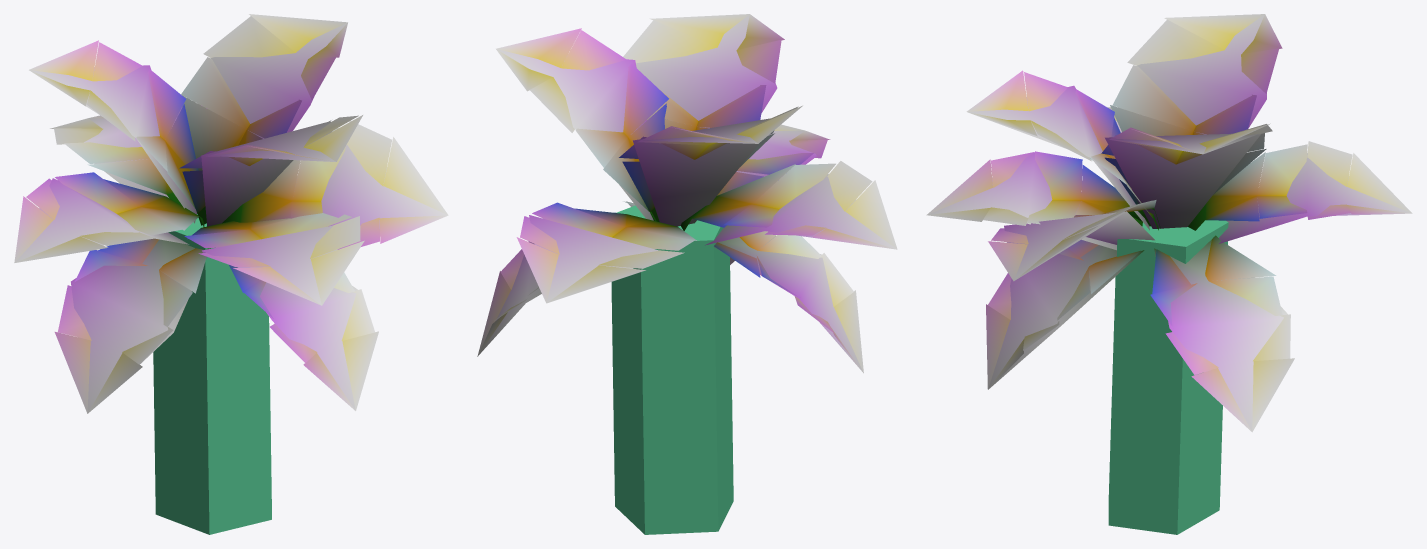
The model's file is tree_palm_f.dae.
3 renders of one model, left to right at view 1: azimuth 30°, elevation 25°; view 2: azimuth 150°, elevation 25°; view 3: azimuth 270°, elevation 25°, orthographic. The views are drawn at different scales.
Visible parts, largest first — view 1: tree_oak_bush_a200, tree_oak_bush_a60, Colmesh-1; view 2: tree_oak_bush_a200, Colmesh-1, tree_oak_bush_a60; view 3: tree_oak_bush_a200, tree_oak_bush_a60, Colmesh-1.
Boxes of the visible parts, x1,y1,x2,y2 form: tree_oak_bush_a200: [14, 14, 448, 413]; tree_oak_bush_a60: [15, 23, 447, 413]; Colmesh-1: [153, 214, 271, 534]; tree_oak_bush_a200: [477, 14, 897, 372]; Colmesh-1: [611, 205, 733, 534]; tree_oak_bush_a60: [478, 14, 896, 372]; tree_oak_bush_a200: [927, 14, 1412, 431]; tree_oak_bush_a60: [927, 14, 1411, 431]; Colmesh-1: [1108, 220, 1228, 534].
Bounding box in the file's own units: 2.15 × 2.46 × 2.43.
